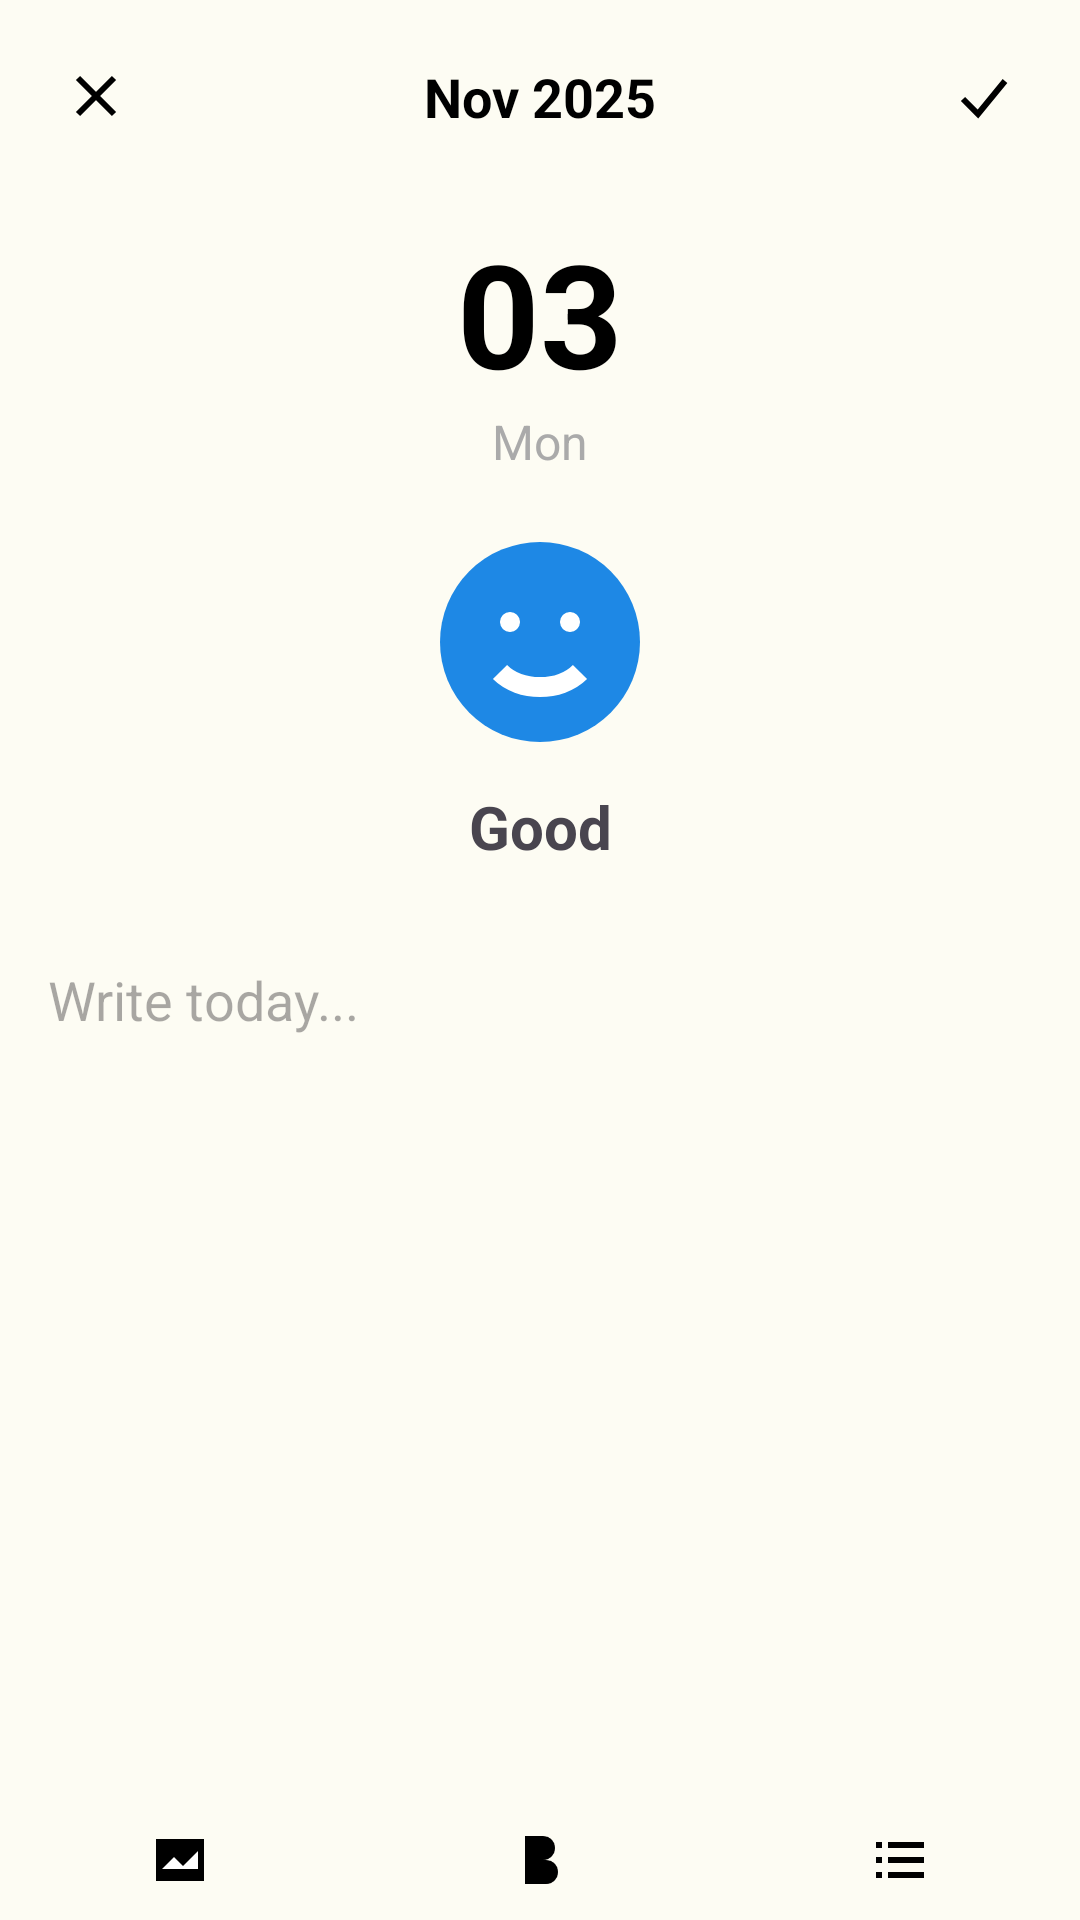

Point at icon controls on the screen. Image size 1080*1920, points as (x,y).
Add Image: (180,1860)
Bold: (541,1860)
Bullet List: (900,1860)
Close: (96,96)
Save: (984,99)
Selected Mood: (540,642)
